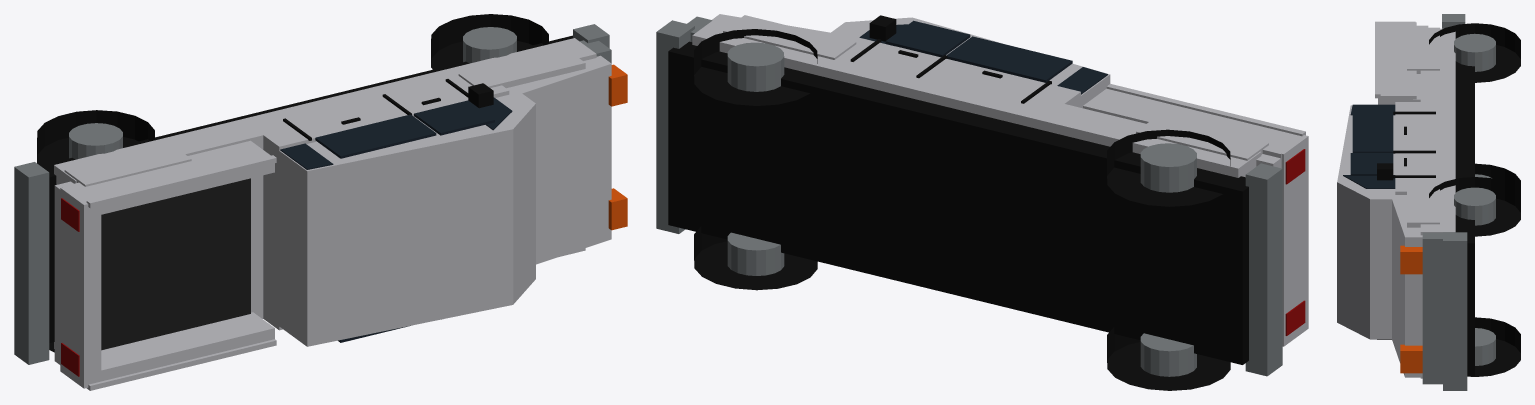
Rendered from normal_pickup_19ft_cm.obj.
3 renders of one model, left to right at view 1: azimuth 30°, elevation 25°; view 2: azimuth 150°, elevation 25°; view 3: azimuth 270°, elevation 25°, orthographic. The views are drawn at different scales.
Visible parts, largest first — view 1: Normal_Full_Size_Pickup_19ft; view 2: Normal_Full_Size_Pickup_19ft; view 3: Normal_Full_Size_Pickup_19ft.
Boxes of the visible parts, bbox=[...] form: Normal_Full_Size_Pickup_19ft: bbox=[14, 14, 627, 390]; Normal_Full_Size_Pickup_19ft: bbox=[656, 14, 1308, 390]; Normal_Full_Size_Pickup_19ft: bbox=[1337, 14, 1520, 390].
Bounding box in the file's own units: 579 × 203 × 198.
